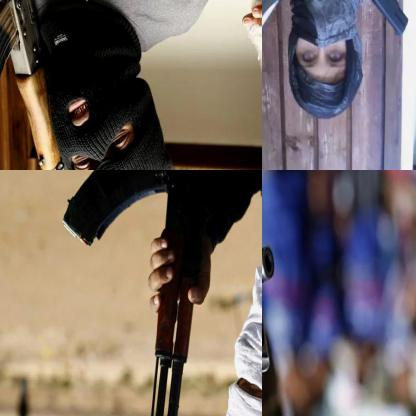pistol: (262, 0, 319, 65), (339, 0, 415, 37)
rifle: (58, 170, 211, 415), (0, 0, 92, 169)
